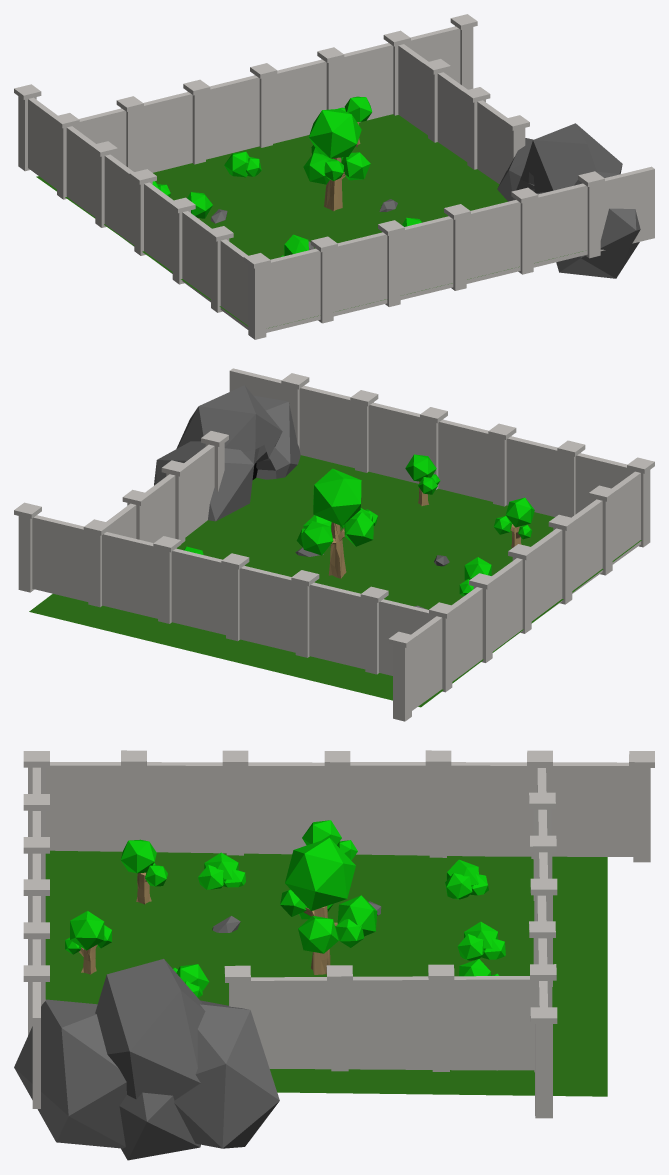
Rendered from env-table.fbx.
3 renders of one model, top to bottom at view 1: azimuth 30°, elevation 25°; view 2: azimuth 150°, elevation 25°; view 3: azimuth 270°, elevation 25°, orthographic. The views are drawn at different scales.
Visible parts, largest first — view 1: garden_wall1, ground1, tomb1, main_tree, bush3, env_tree1; view 2: garden_wall1, ground1, tomb1, main_tree, env_tree3, env_tree2, env_tree; view 3: garden_wall1, ground1, tomb1, main_tree, env_tree2, env_tree3, bush3, bush2, bush1, env_tree, bush.
Boxes of the visible parts, left/top/right/bottom form: garden_wall1: left=14, top=14, right=654, bottom=339; ground1: left=36, top=114, right=582, bottom=328; tomb1: left=497, top=123, right=640, bottom=278; main_tree: left=303, top=109, right=370, bottom=211; bush3: left=224, top=151, right=261, bottom=177; env_tree1: left=338, top=96, right=372, bottom=147; garden_wall1: left=14, top=368, right=654, bottom=721; ground1: left=29, top=455, right=641, bottom=707; tomb1: left=154, top=385, right=300, bottom=521; main_tree: left=296, top=468, right=373, bottom=578; env_tree3: left=493, top=497, right=534, bottom=547; env_tree2: left=405, top=454, right=440, bottom=505; env_tree: left=459, top=557, right=491, bottom=596; garden_wall1: left=23, top=750, right=654, bottom=1118; ground1: left=45, top=850, right=607, bottom=1096; tomb1: left=14, top=959, right=279, bottom=1160; main_tree: left=280, top=838, right=377, bottom=974; env_tree2: left=65, top=911, right=111, bottom=974; env_tree3: left=121, top=839, right=167, bottom=904; bush3: left=457, top=921, right=505, bottom=960; bush2: left=445, top=859, right=488, bottom=899; bush1: left=198, top=852, right=245, bottom=889; env_tree: left=302, top=820, right=357, bottom=860; bush: left=173, top=964, right=208, bottom=997.
Bounding box in the file's own units: 73.92 × 24.91 × 74.78.
